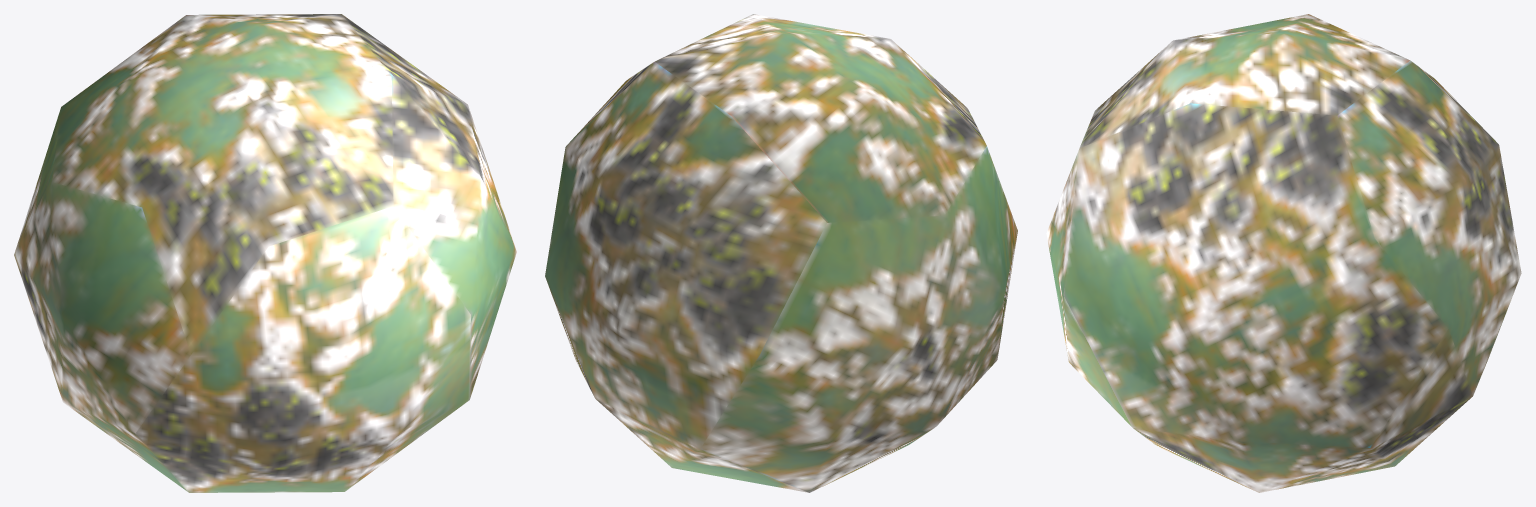
Rendered from GreenPlanet.glb.
3 views of the same model, side by side, from view 1: azimuth 30°, elevation 25°; view 2: azimuth 150°, elevation 25°; view 3: azimuth 270°, elevation 25° (orthographic). The views are drawn at different scales.
Visible parts, largest first — view 1: 棱角球.006; view 2: 棱角球.006; view 3: 棱角球.006.
Part boxes in pixels (left/top/right/bottom): 棱角球.006: left=14, top=14, right=516, bottom=492; 棱角球.006: left=545, top=14, right=1017, bottom=492; 棱角球.006: left=1046, top=14, right=1521, bottom=492.
Size of what is drawn, in the model's own units: 4.33 by 4.36 by 4.28.
1 material, 1 textured.
